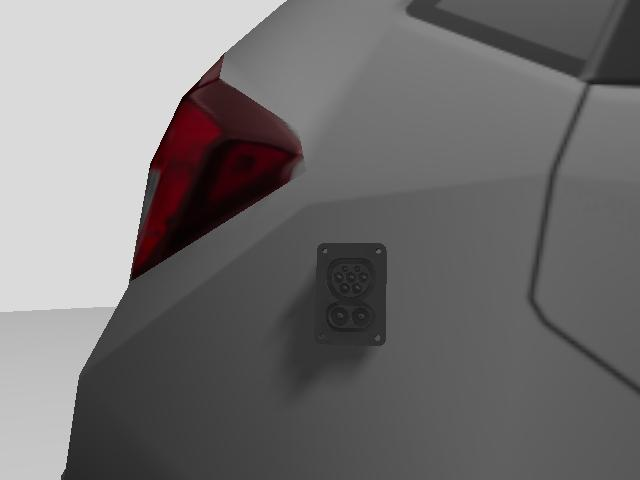EV-socket: (311, 241, 389, 350)
